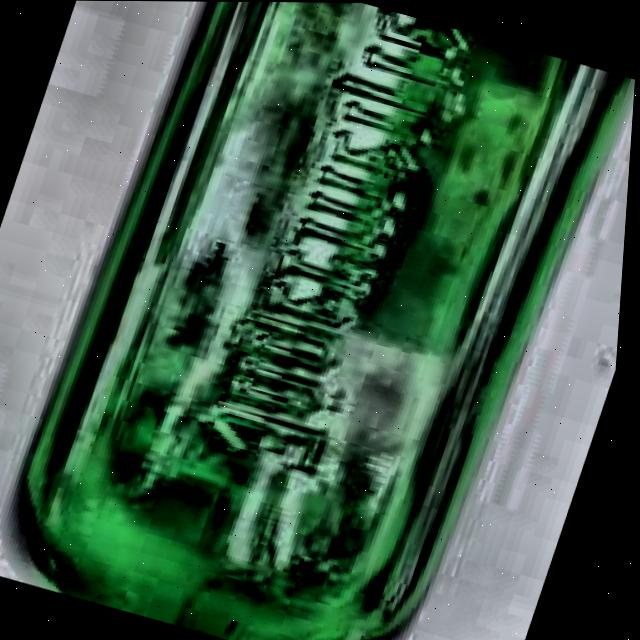glass: (6, 1, 636, 640)
